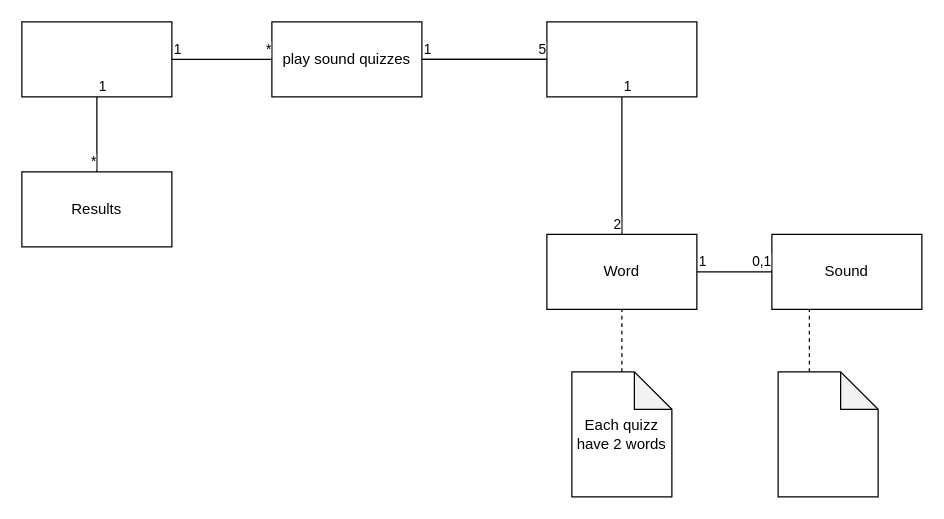
This 944x519 diagram has some shape labels left out. The centre of each missing label's shape, as x and y in pixels:
For only 1 word: the point at 827,434
Player: the point at 96,59
Quizz: the point at 621,59
